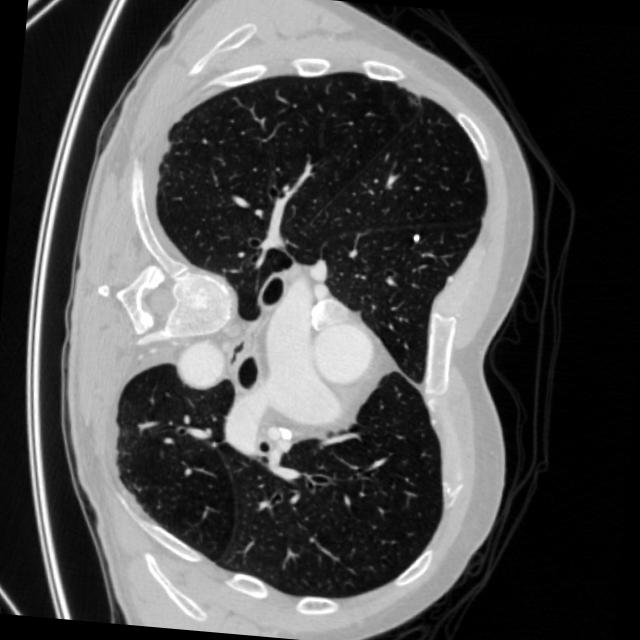nodule: (406, 227, 426, 247)
